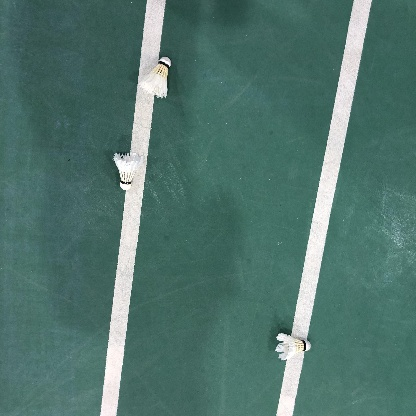ball_single: (139, 57, 171, 99), (113, 153, 143, 190), (275, 332, 311, 360)
